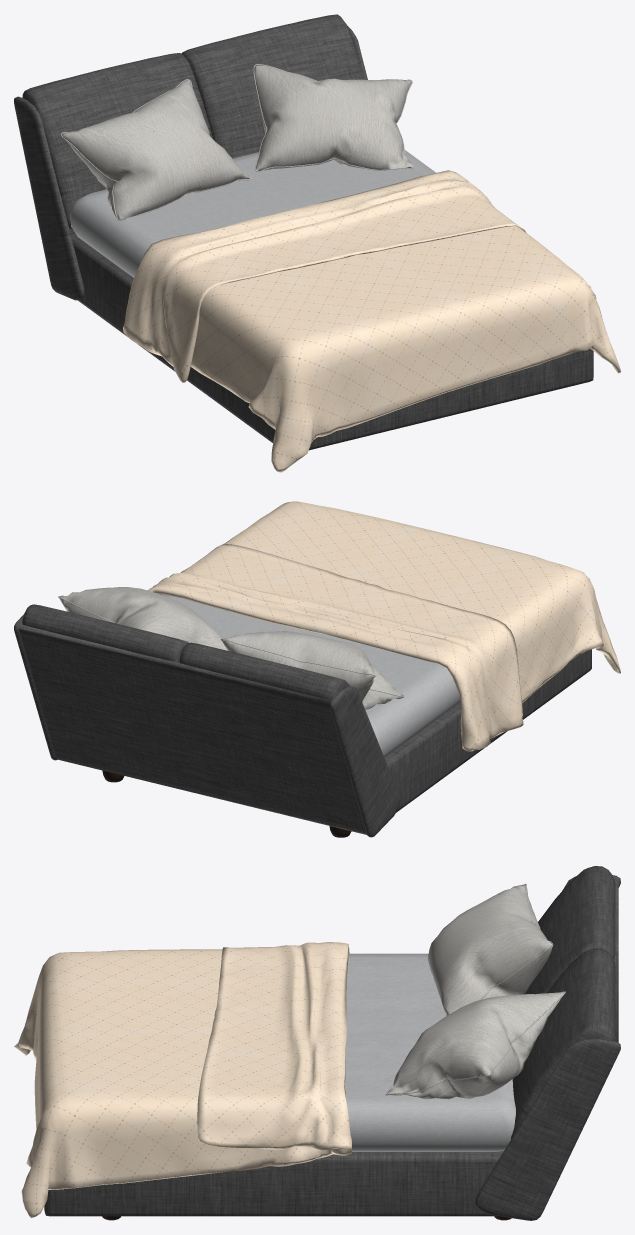
Rendered from bed_seattle.glb.
3 views of the same model, one above another, from view 1: azimuth 30°, elevation 25°; view 2: azimuth 150°, elevation 25°; view 3: azimuth 270°, elevation 25° (orthographic). The views are drawn at different scales.
Parts seen in each view (by area): view 1: Bed Seattle; view 2: Bed Seattle; view 3: Bed Seattle.
Boxes of the visible parts, box(x1,y1,x2,y2) form: Bed Seattle: box(14, 14, 620, 472); Bed Seattle: box(14, 501, 620, 837); Bed Seattle: box(14, 866, 620, 1220).
Bounding box in the file's own units: 1.86 × 0.9827 × 2.55.
Materials: 5 (5 with a texture image).
